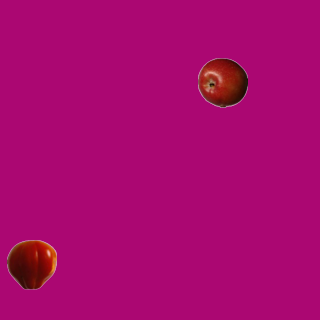Apple Braeburn: (197, 57, 247, 107)
Tomato 1: (6, 239, 56, 289)
